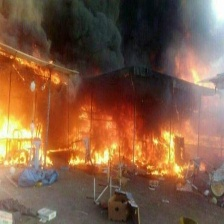fire: (1, 109, 53, 167), (132, 133, 184, 178), (69, 132, 123, 172), (189, 67, 207, 90)
smoke: (2, 1, 224, 75)
